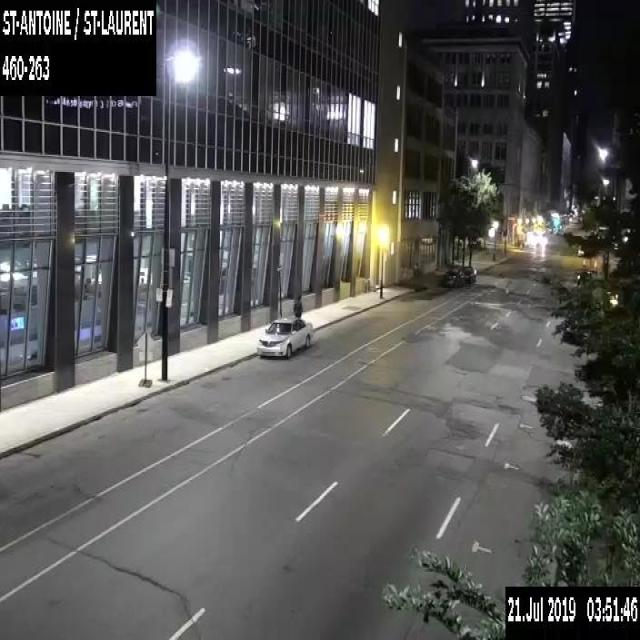construction: (134, 330, 156, 386), (581, 258, 597, 274)
pedestrian: (292, 292, 304, 317)
vehicle: (256, 316, 313, 357), (441, 267, 464, 287), (460, 264, 476, 283), (532, 230, 546, 246)
